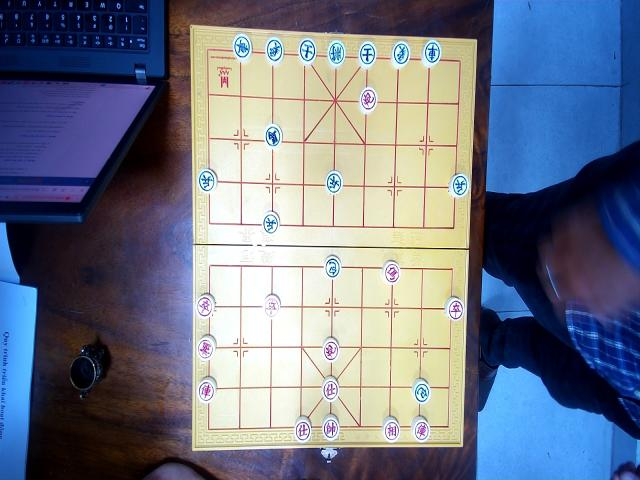piece: (421, 39, 442, 68), (232, 32, 252, 61), (390, 39, 410, 68), (449, 171, 469, 199), (326, 39, 346, 67), (196, 377, 216, 404), (410, 415, 430, 442), (196, 335, 216, 362), (358, 87, 378, 114), (411, 378, 431, 405), (195, 292, 215, 318), (381, 415, 400, 442), (298, 36, 316, 64), (265, 36, 283, 64), (444, 296, 464, 321), (263, 124, 282, 150), (294, 416, 312, 443), (322, 414, 340, 441), (322, 337, 340, 364), (358, 41, 376, 68), (382, 259, 401, 284), (198, 168, 216, 193), (324, 170, 342, 195), (262, 210, 280, 235), (322, 376, 339, 402), (324, 254, 341, 278), (264, 293, 280, 318)
